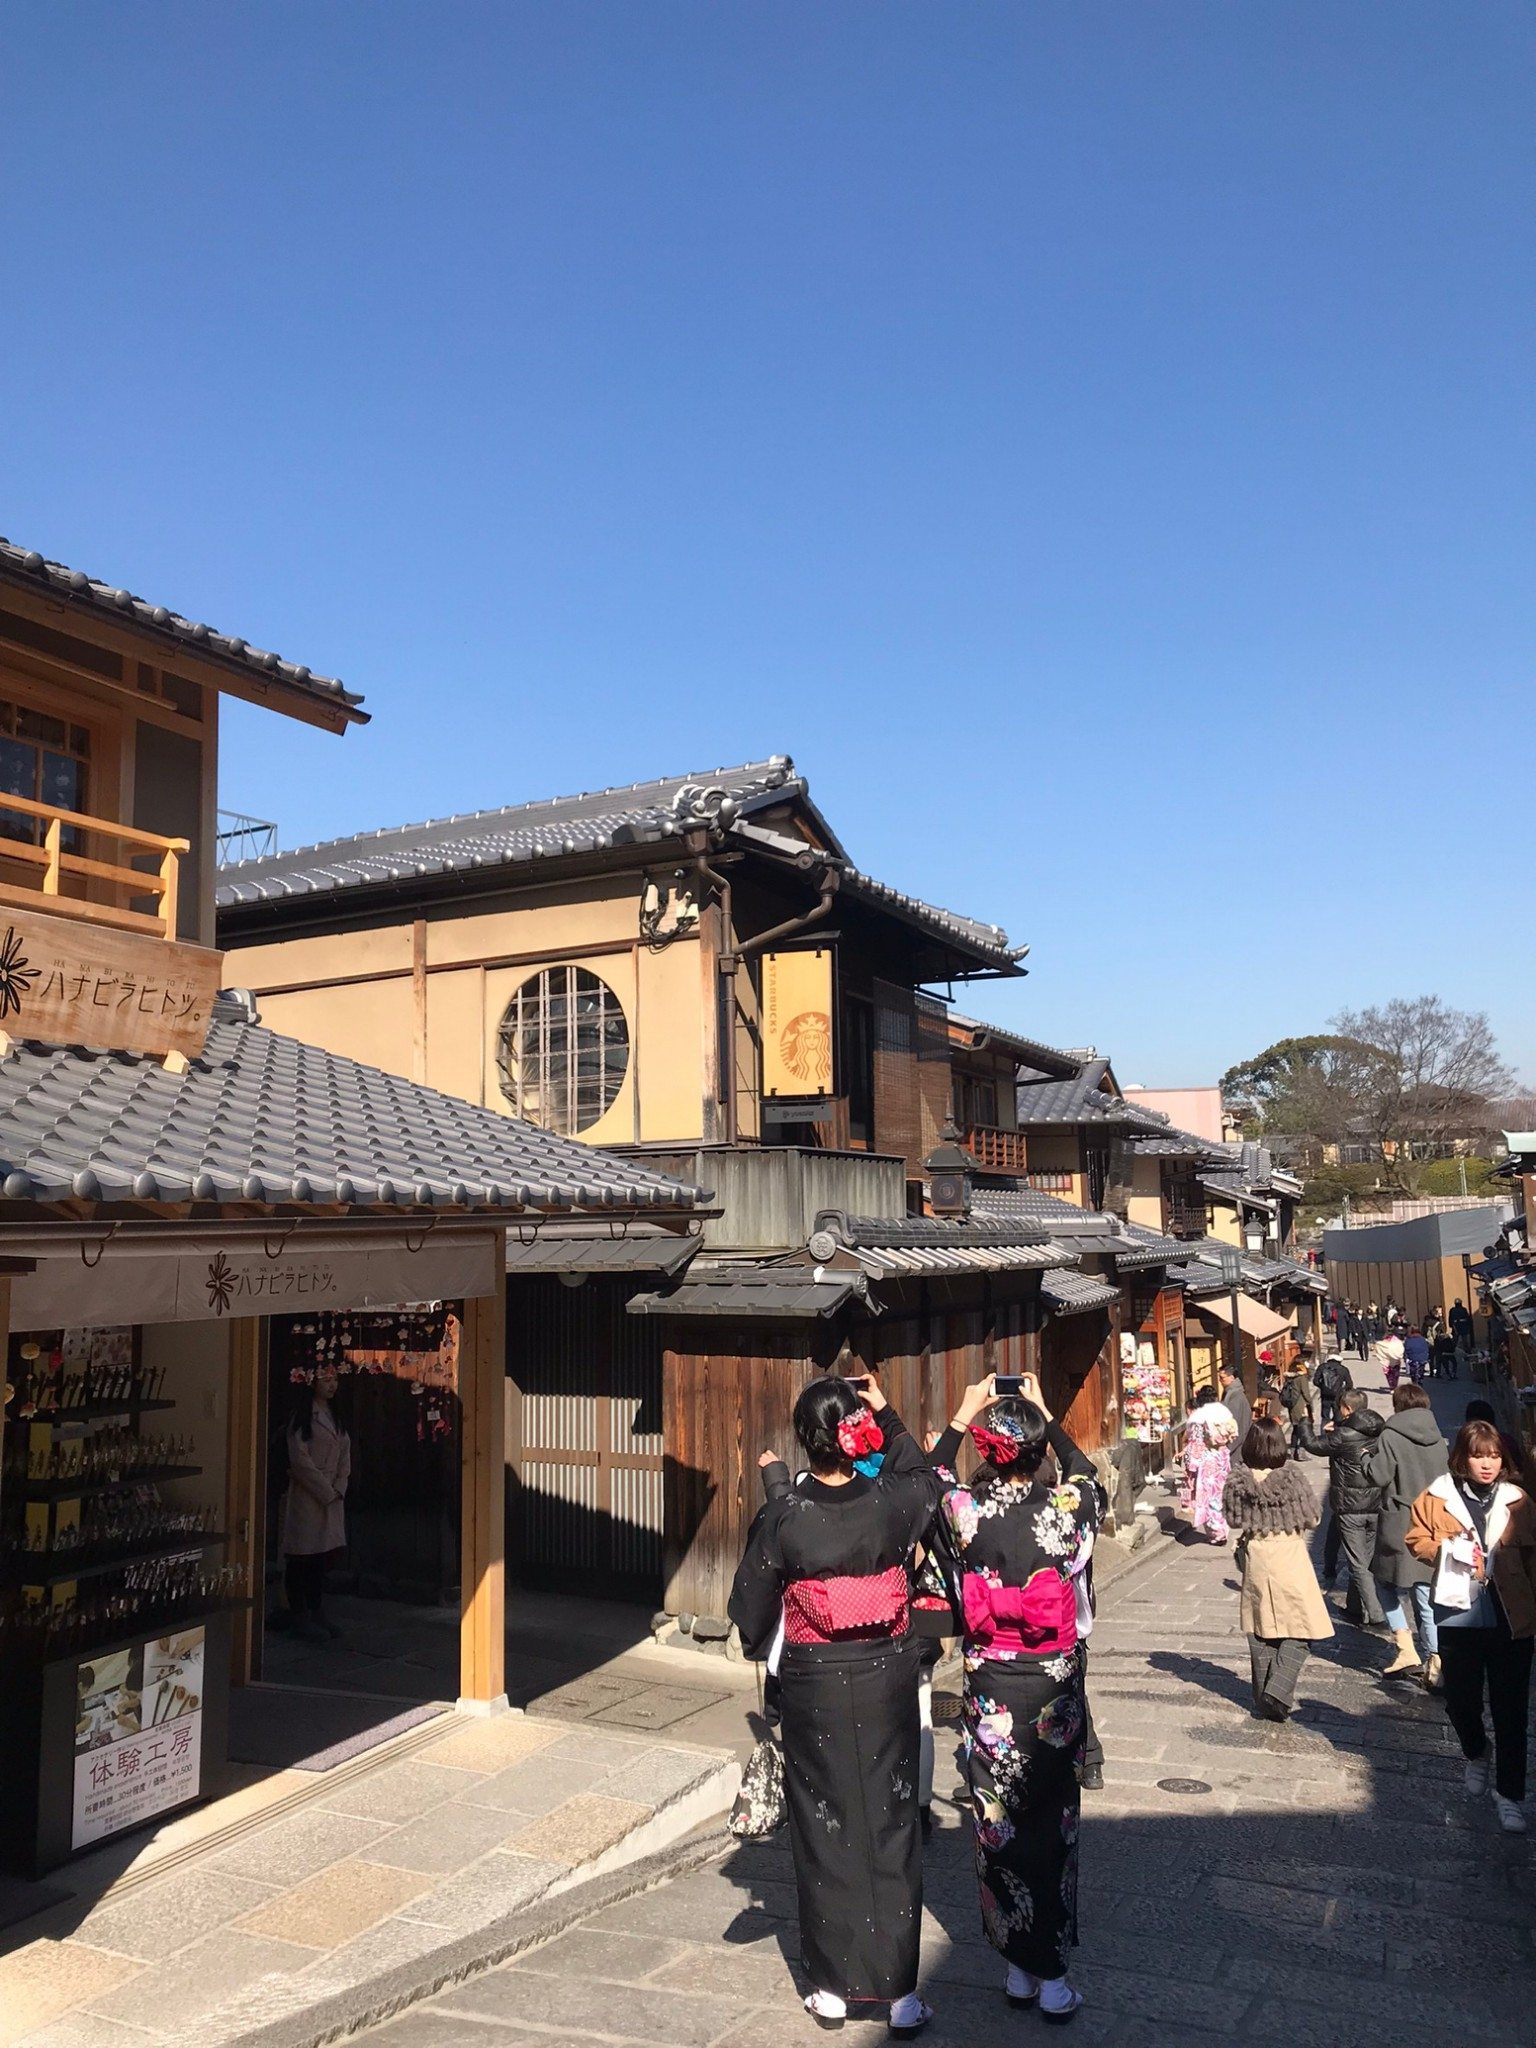people: (934, 1389, 1147, 2044), (769, 1380, 953, 2031), (1434, 1425, 1531, 1799), (1221, 1399, 1334, 1705), (1376, 1364, 1466, 1664), (1334, 1405, 1408, 1667), (1186, 1370, 1256, 1541)
